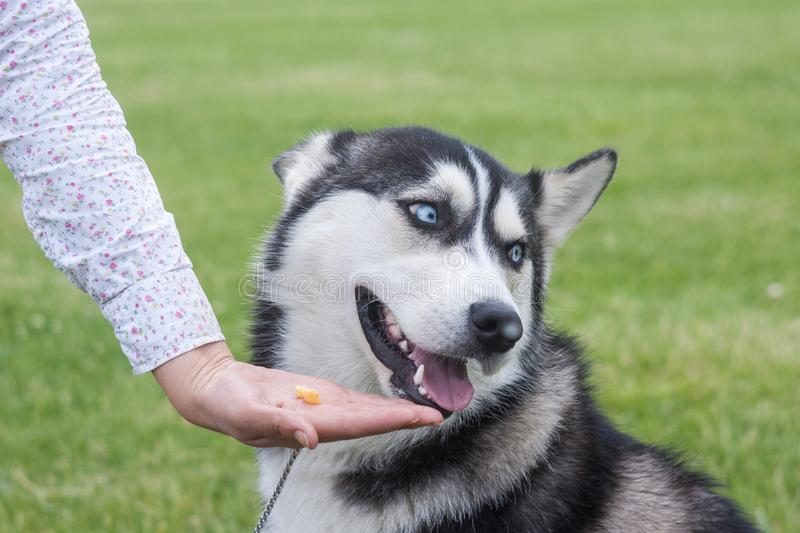husky: (246, 93, 650, 465)
